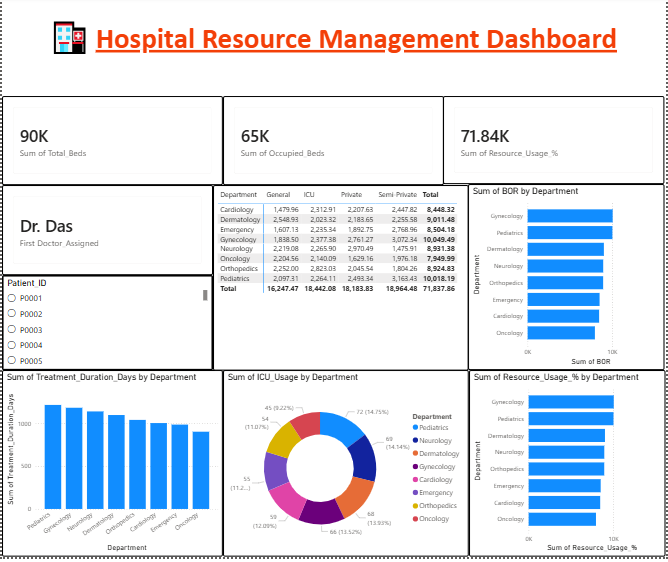

The page's visual inventory and layout, read from the dashboard file:
{"tool":"powerbi","page":{"name":"Page 1","canvas":[1280,1080],"ordinal":0},"visuals":[{"type":"barChart","fields":{"Category":["df.Department"],"Y":["Sum(df.BOR)"]},"box":[900,362.1,379.1,357.9],"z":0},{"type":"columnChart","fields":{"Category":["df.Department"],"Y":["Sum(df.Treatment_Duration_Days)"]},"box":[0,720,425.6,360],"z":1000},{"type":"donutChart","fields":{"Category":["df.Department"],"Y":["Sum(df.ICU_Usage)"]},"box":[425.6,720,474.4,360],"z":2000},{"type":"barChart","fields":{"Category":["df.Department"],"Y":["Sum(df.Resource_Usage_%)"]},"box":[900,720,379.1,360],"z":3000},{"type":"pivotTable","fields":{"Rows":["df.Department"],"Columns":["df.Bed_Type"],"Values":["Sum(df.Resource_Usage_%)"]},"box":[406.6,362.1,493.4,357.9],"z":4000},{"type":"cardVisual","fields":{"Data":["Sum(df.Total_Beds)"]},"box":[0,190.6,425.6,171.5],"z":5000},{"type":"cardVisual","fields":{"Data":["Sum(df.Occupied_Beds)"]},"box":[425.6,190.6,425.6,171.5],"z":6000},{"type":"cardVisual","fields":{"Data":["Sum(df.Resource_Usage_%)"]},"box":[851.3,190.6,427.8,171.5],"z":7000},{"type":"listSlicer","fields":{"Values":["df.Patient_ID"]},"box":[0,535.8,406.6,184.2],"z":8000},{"type":"cardVisual","fields":{"Data":["Min(df.Doctor_Assigned)"]},"box":[0,362.1,406.6,173.6],"z":9000},{"type":"textbox","box":[0,0,1279.1,190.6],"z":9001}]}

Visuals, with their boxes in screenshot pixels (x1, y1, x2, y2), scaled from the page's 1280x1080 canvas onto the 668x562 screenshot:
barChart - df.Department x Sum(df.BOR): 470 188 667 375
columnChart - df.Department x Sum(df.Treatment_Duration_Days): 0 375 222 561
donutChart - df.Department x Sum(df.ICU_Usage): 222 375 470 561
barChart - df.Department x Sum(df.Resource_Usage_%): 470 375 667 561
pivotTable - df.Department x df.Bed_Type: 212 188 470 375
cardVisual - Sum(df.Total_Beds): 0 99 222 188
cardVisual - Sum(df.Occupied_Beds): 222 99 444 188
cardVisual - Sum(df.Resource_Usage_%): 444 99 667 188
listSlicer - df.Patient_ID: 0 279 212 375
cardVisual - Min(df.Doctor_Assigned): 0 188 212 279
textbox: 0 0 667 99
